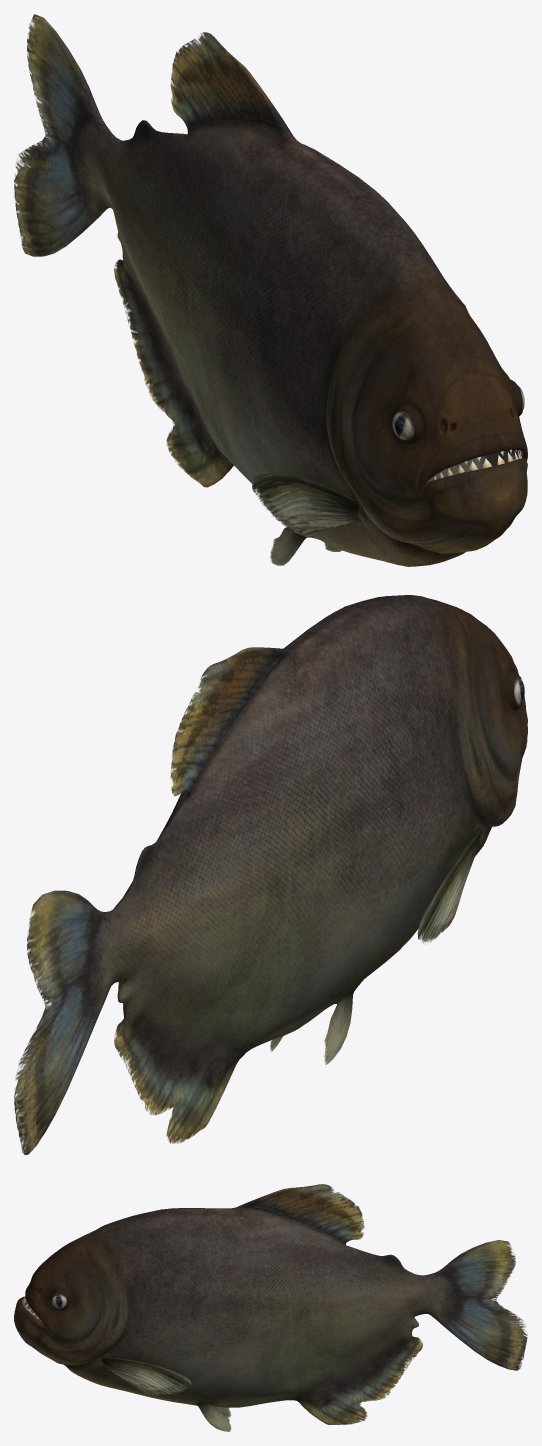
Rendered from piranha_freddy.glb.
3 views of the same model, one above another, from view 1: azimuth 30°, elevation 25°; view 2: azimuth 150°, elevation 25°; view 3: azimuth 270°, elevation 25° (orthographic). The views are drawn at different scales.
Parts seen in each view (by area): view 1: base; view 2: base; view 3: base.
Boxes of the visible parts, x1,y1,x2,y2 form: base: [14, 14, 527, 566]; base: [14, 595, 527, 1154]; base: [14, 1184, 527, 1431].
Bounding box in the file's own units: 0.099 × 0.2605 × 0.5038.
Materials: 3 (3 with a texture image).
